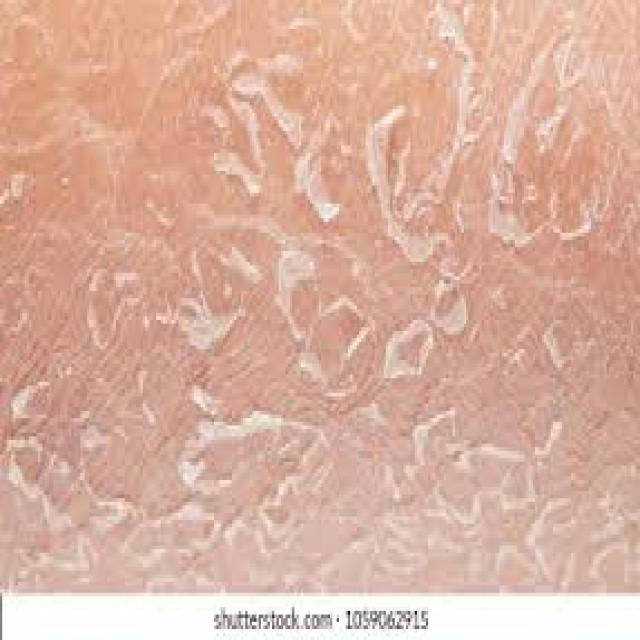flakiness: (76, 63, 571, 451)
